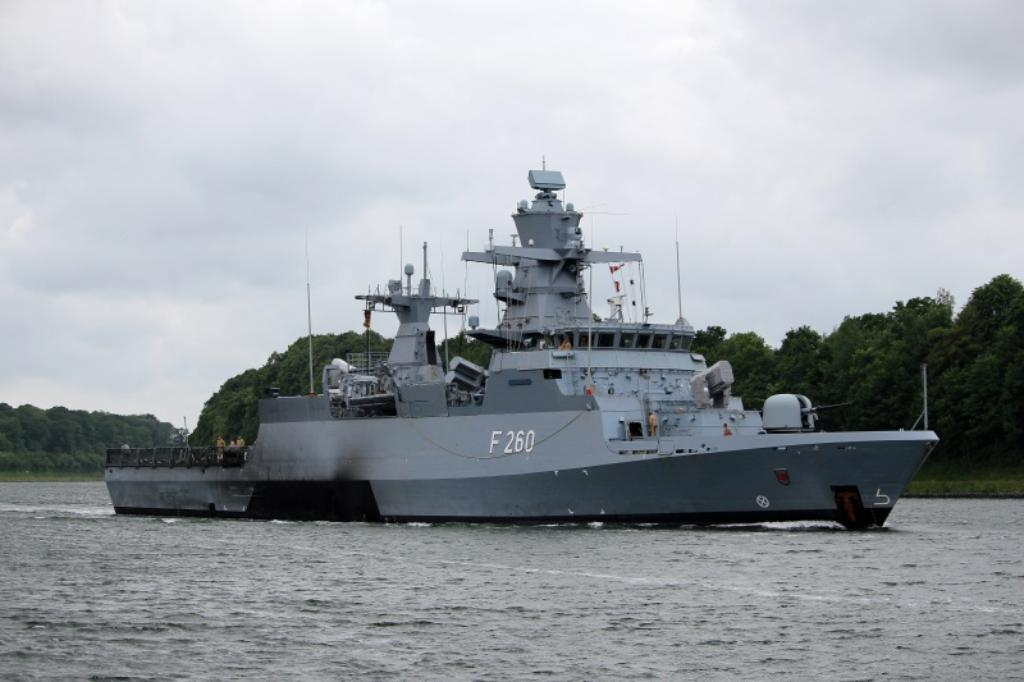Warship: (98, 154, 942, 530)
